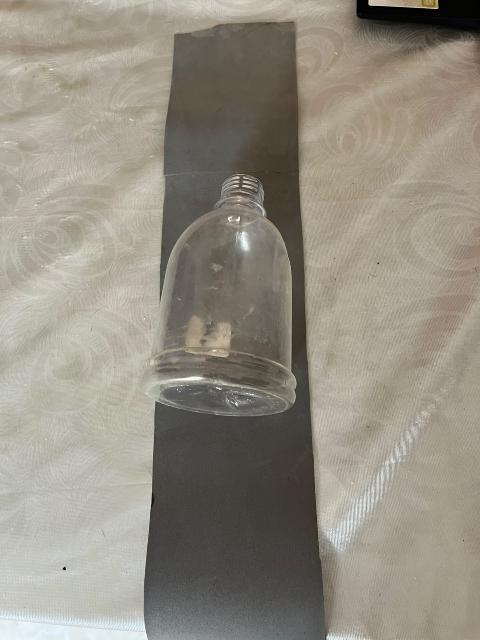PET: (128, 149, 324, 428)
